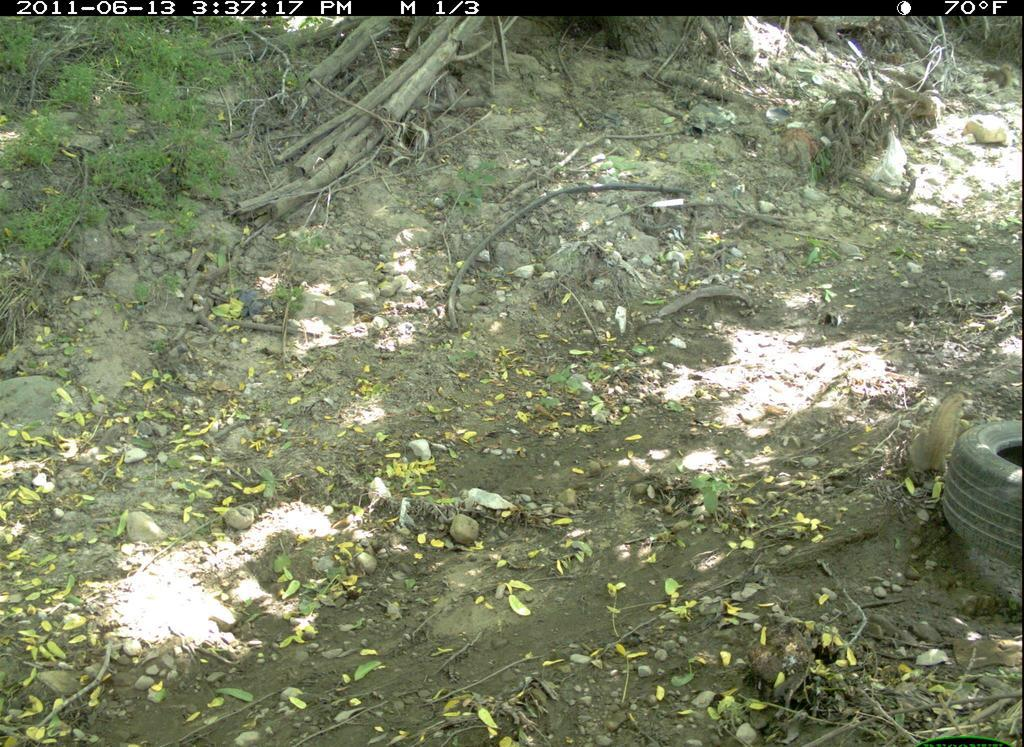squirrel: (884, 382, 972, 493)
